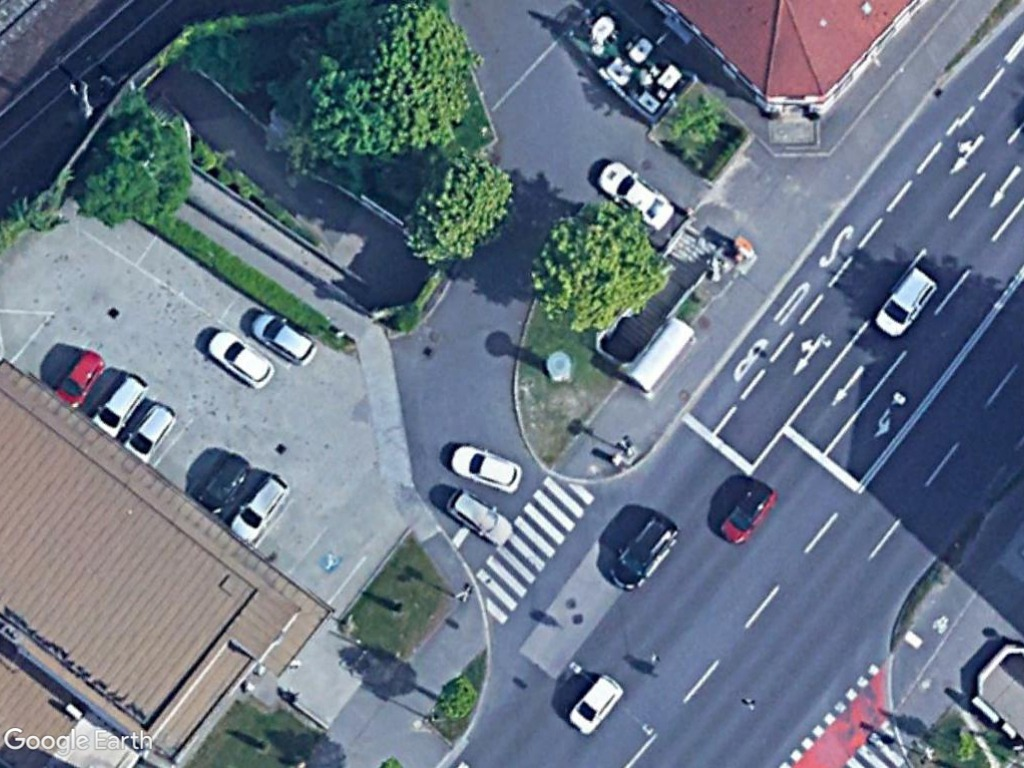car: (598, 155, 678, 233), (604, 514, 681, 592), (205, 324, 279, 392), (228, 468, 292, 543), (447, 441, 526, 497), (88, 368, 151, 438), (445, 490, 514, 548), (714, 482, 776, 544), (563, 674, 624, 736), (251, 310, 316, 368), (118, 402, 176, 461), (54, 350, 105, 410)
van: (869, 268, 939, 340)
